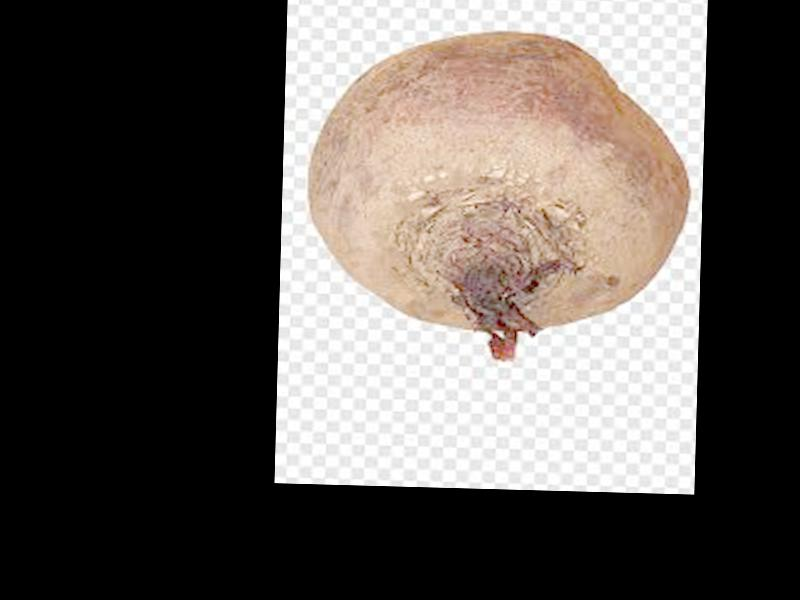Beet: (305, 27, 691, 366)
